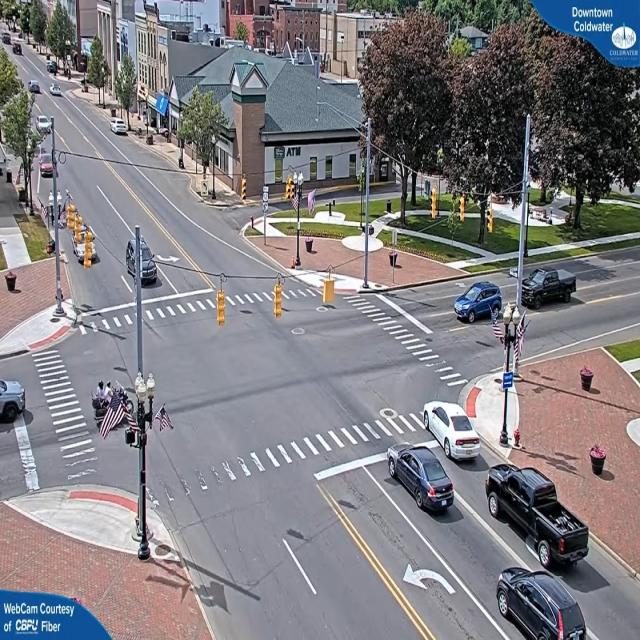car: (486, 463, 589, 547), (494, 565, 593, 640), (387, 443, 458, 515), (426, 400, 482, 448), (521, 268, 576, 310), (454, 283, 502, 324), (1, 380, 27, 422)
